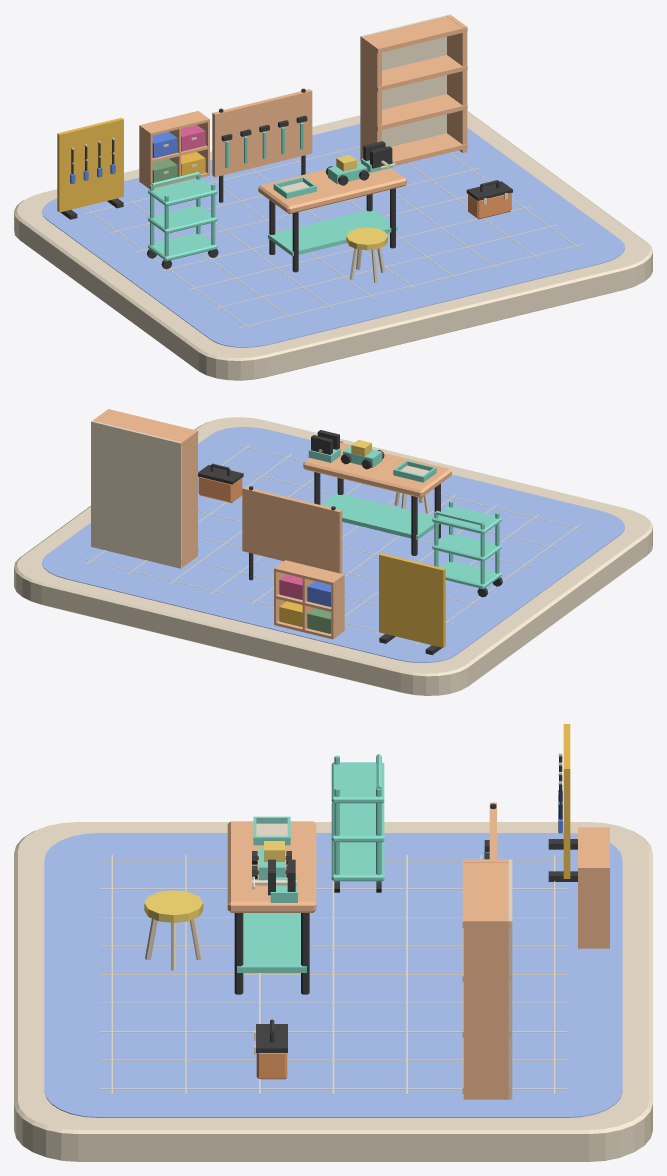
File: room.fbx
3 renders of one model, top to bottom at view 1: azimuth 30°, elevation 25°; view 2: azimuth 150°, elevation 25°; view 3: azimuth 270°, elevation 25°, orthographic. The views are drawn at different scales.
Parts seen in each view (by area): view 1: COM-02 Floor Surface, COM-01 Rounded Base Direct, Peg board, Panel, Back, Worktop, Lower shelf, Side, Side.001, Shelf.003, Shelf.001, Shelf.002 (+10 smaller); view 2: COM-02 Floor Surface, COM-01 Rounded Base Direct, Back, Peg board, Panel, Worktop, Lower shelf, Side, Shelf.003, Tray.001, Tray.002, Tray (+8 smaller); view 3: COM-02 Floor Surface, COM-01 Rounded Base Direct, Side.001, Worktop, Lower shelf, Shelf.003, Cubbies divider.002, Tray.002, Tray, Tray.001, Seat, Cubbies shelf.002 (+13 smaller).
Part boxes in pixels (x1,y1,x2,y2): COM-02 Floor Surface: [42, 124, 624, 347]; COM-01 Rounded Base Direct: [14, 111, 652, 380]; Peg board: [212, 89, 312, 177]; Panel: [57, 117, 123, 212]; Back: [360, 14, 450, 160]; Worktop: [258, 161, 406, 214]; Lower shelf: [268, 209, 397, 256]; Side: [361, 36, 381, 154]; Side.001: [447, 15, 467, 152]; Shelf.003: [361, 16, 467, 53]; Shelf.001: [361, 94, 467, 130]; Shelf.002: [361, 55, 467, 91]; COM-02 Floor Surface: [42, 427, 624, 662]; COM-01 Rounded Base Direct: [14, 417, 652, 695]; Back: [91, 420, 182, 568]; Peg board: [242, 486, 342, 573]; Panel: [379, 553, 445, 647]; Worktop: [303, 442, 451, 497]; Lower shelf: [321, 493, 439, 539]; Side: [177, 430, 197, 567]; Shelf.003: [97, 409, 198, 447]; Tray.001: [432, 533, 501, 561]; Tray.002: [432, 506, 501, 534]; Tray: [441, 561, 501, 589]; COM-02 Floor Surface: [44, 833, 622, 1117]; COM-01 Rounded Base Direct: [14, 822, 652, 1161]; Side.001: [463, 918, 510, 1099]; Worktop: [227, 821, 316, 912]; Lower shelf: [237, 913, 306, 972]; Shelf.003: [462, 859, 511, 927]; Cubbies divider.002: [578, 868, 609, 948]; Tray.002: [331, 762, 384, 803]; Tray: [331, 841, 384, 881]; Tray.001: [331, 802, 384, 842]; Seat: [144, 890, 203, 922]; Cubbies shelf.002: [578, 827, 609, 868].
Bounding box in the file's own units: 600 × 190 × 520.
